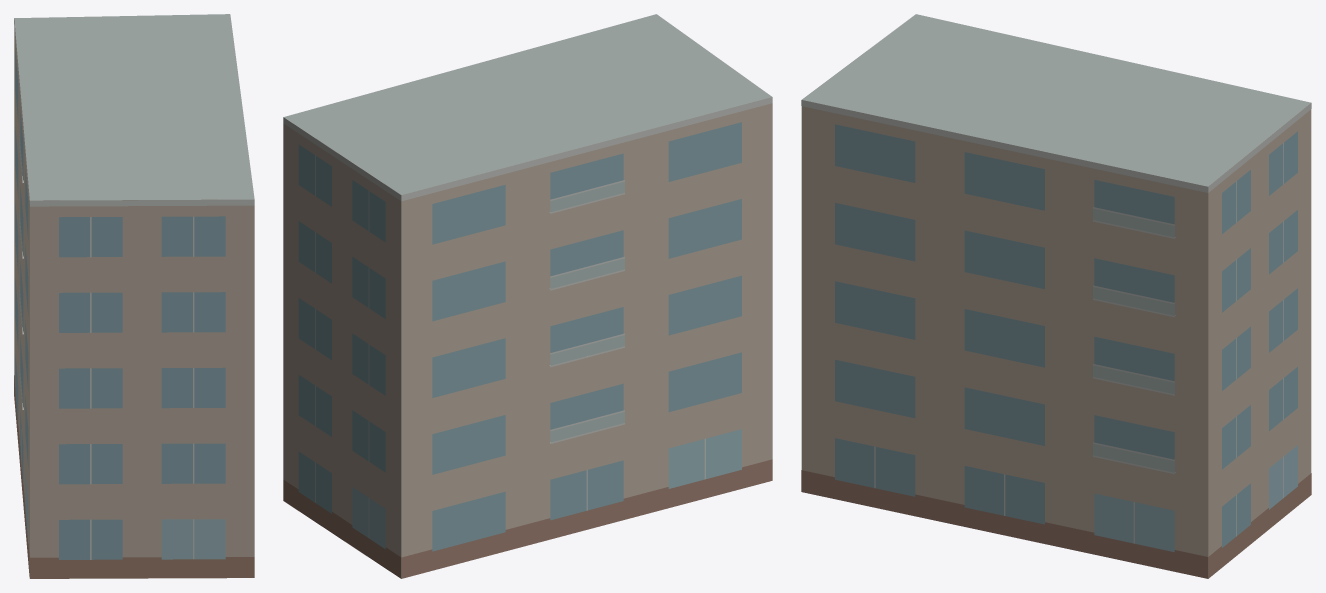
File: survey-upis-32876808.glb
3 renders of one model, left to right at view 1: azimuth 30°, elevation 25°; view 2: azimuth 150°, elevation 25°; view 3: azimuth 270°, elevation 25°, orthographic. The views are drawn at different scales.
Visible parts, largest first — view 1: survey-upis-32876808.tmp; view 2: survey-upis-32876808.tmp; view 3: survey-upis-32876808.tmp.
Part boxes in pixels (bbox=[...]): survey-upis-32876808.tmp: bbox=[14, 14, 254, 578]; survey-upis-32876808.tmp: bbox=[283, 14, 772, 578]; survey-upis-32876808.tmp: bbox=[801, 14, 1311, 578].
Bounding box in the file's own units: 14.41 × 15.25 × 17.98.
